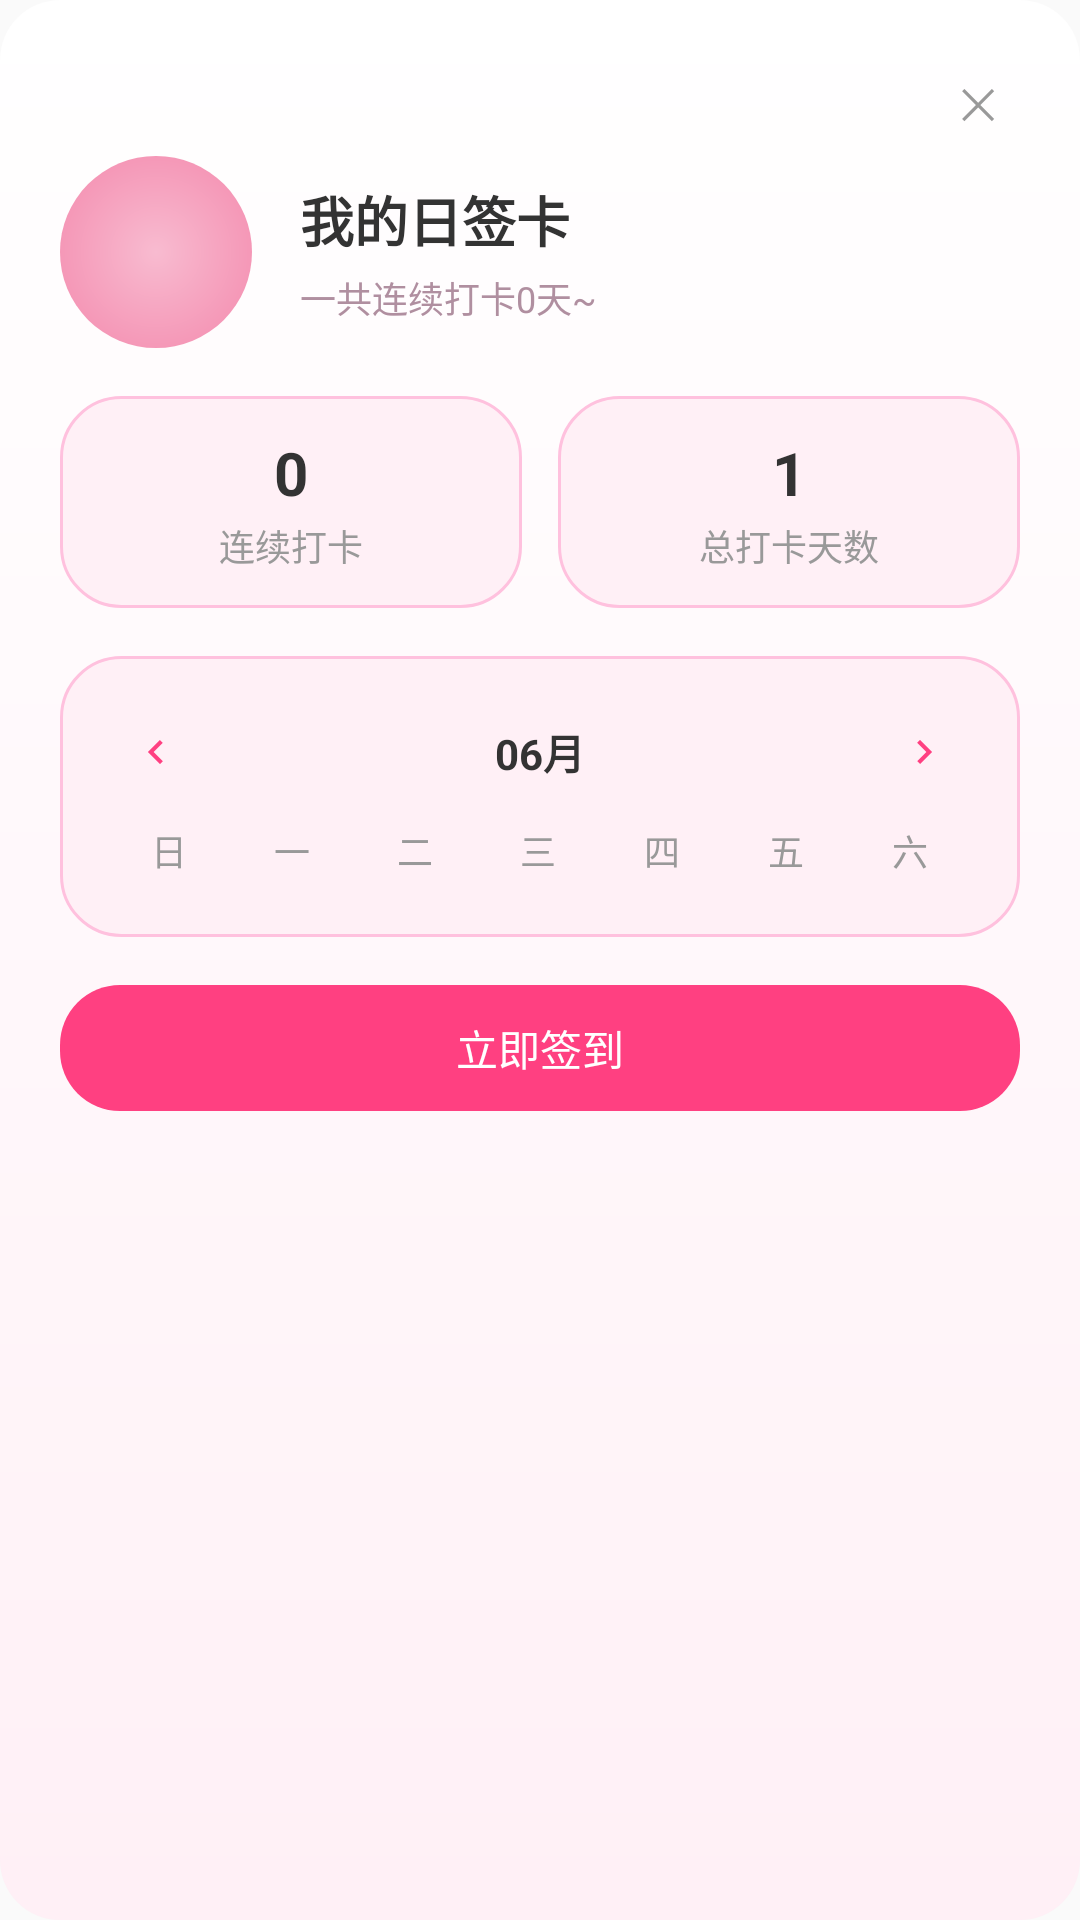

Where icons sit on this 1080 × 1920 app screen, as (x1, y1, x2, y2):
下个月: (917, 740, 932, 764)
